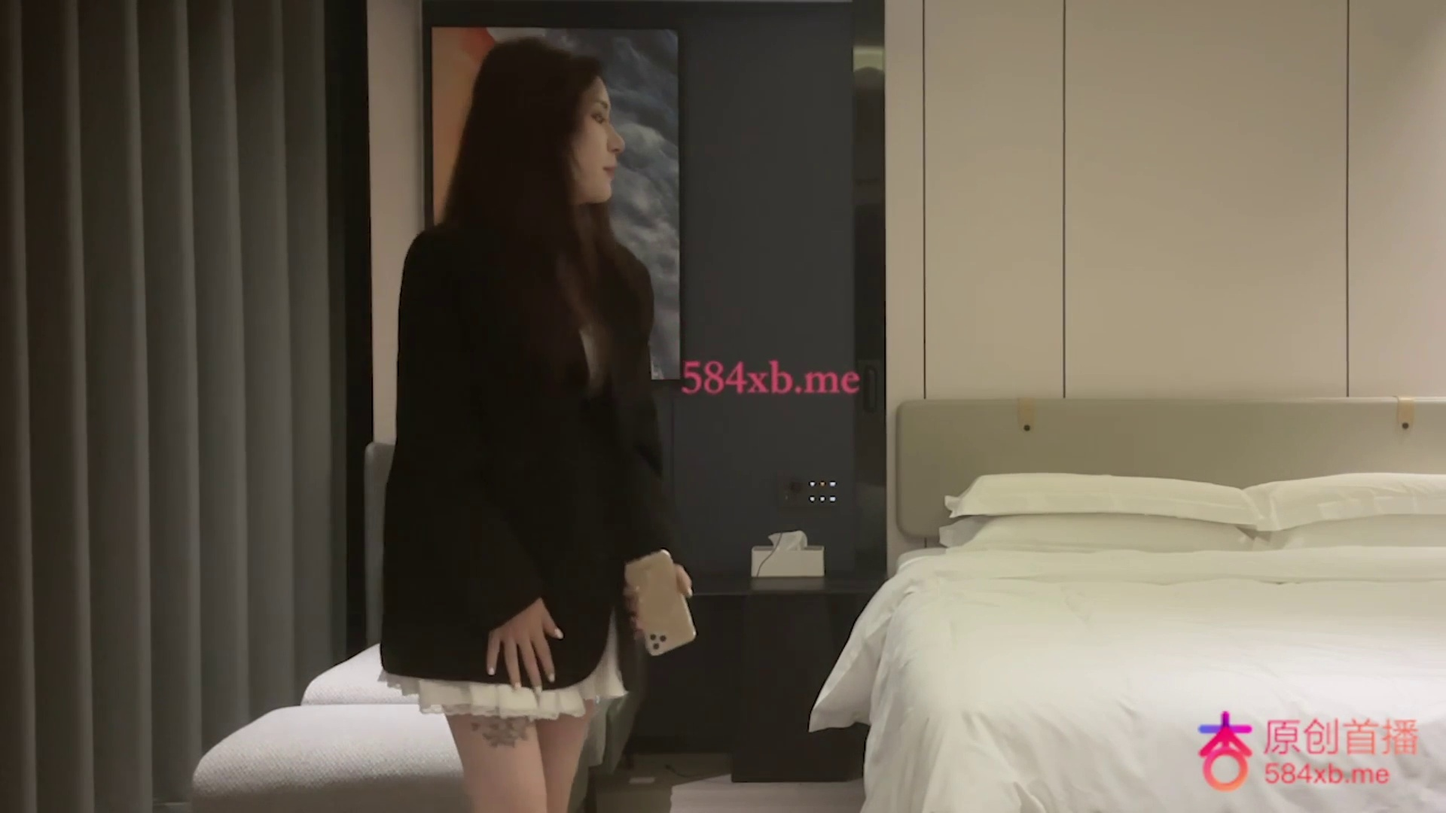stand: (374, 36, 695, 813)
